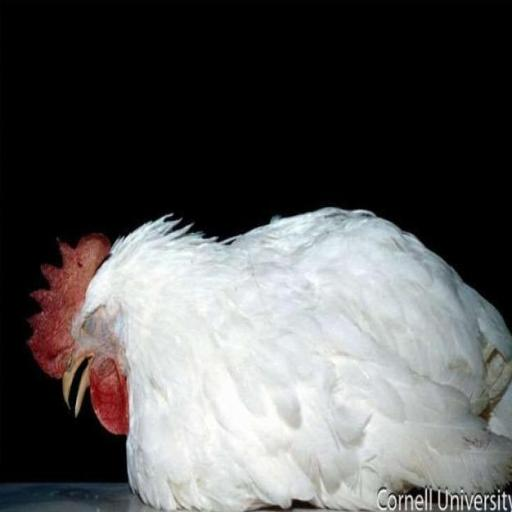disease: (68, 289, 134, 360)
